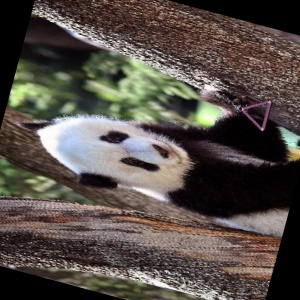triangle: (239, 98, 274, 134)
